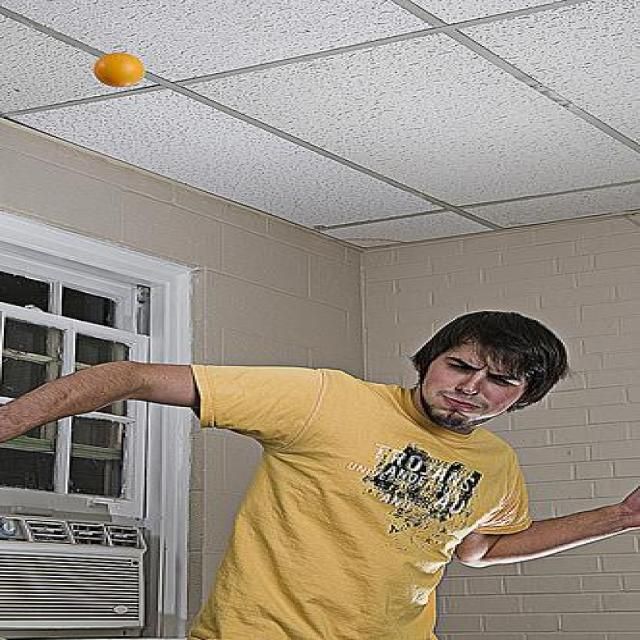ping-pong-ball: (92, 52, 146, 88)
